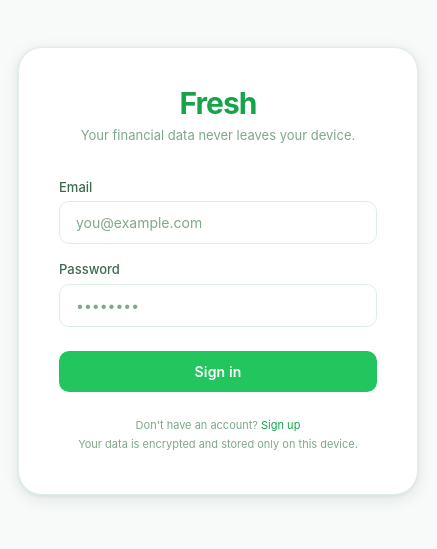
Test case: Login › error handling › shows error banner when login returns 401
Type "user@example.com" into the field labelled "Email" at (218, 222), box [59,201,377,244]
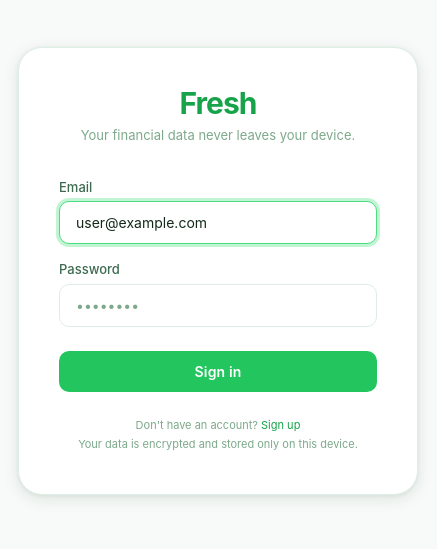
Type "secret123" into the password field labelled "Password" at (218, 305), box [59,284,377,326]
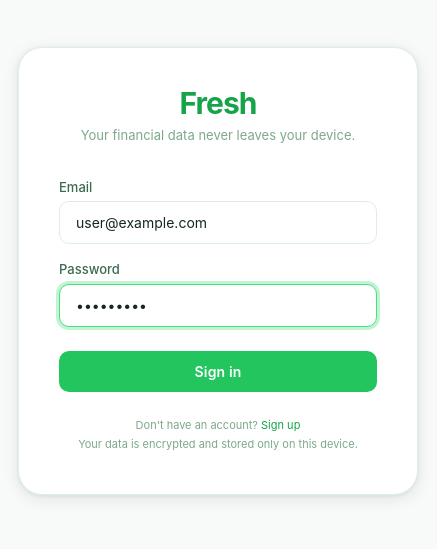
Click the button "Sign in" at (218, 371), box [59,350,377,392]
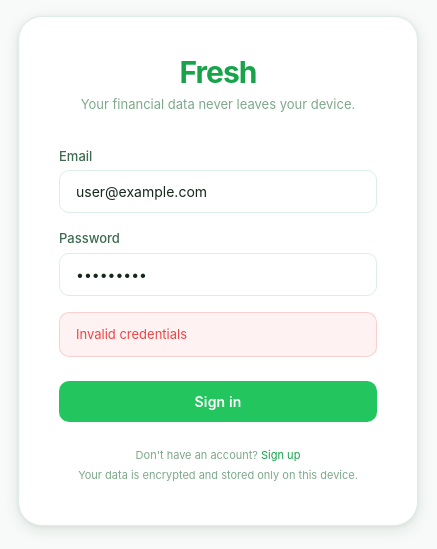
Check: the text "Invalid credentials" is shown, box [59,312,377,357]
